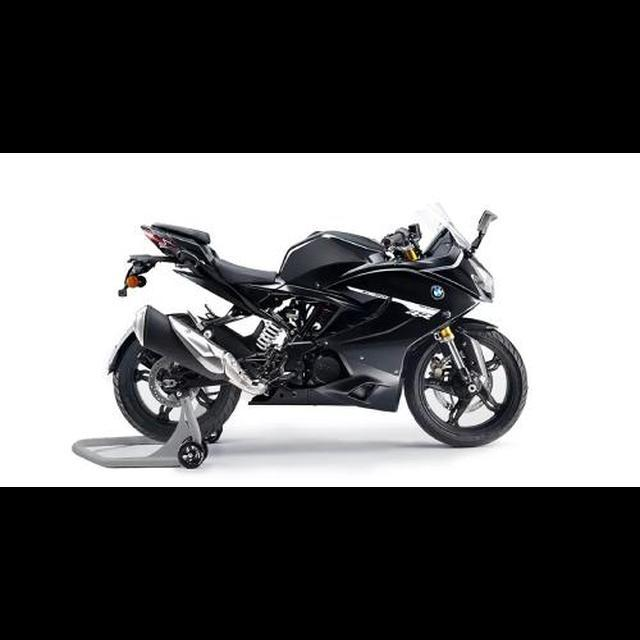motorcycle: (103, 195, 531, 451)
